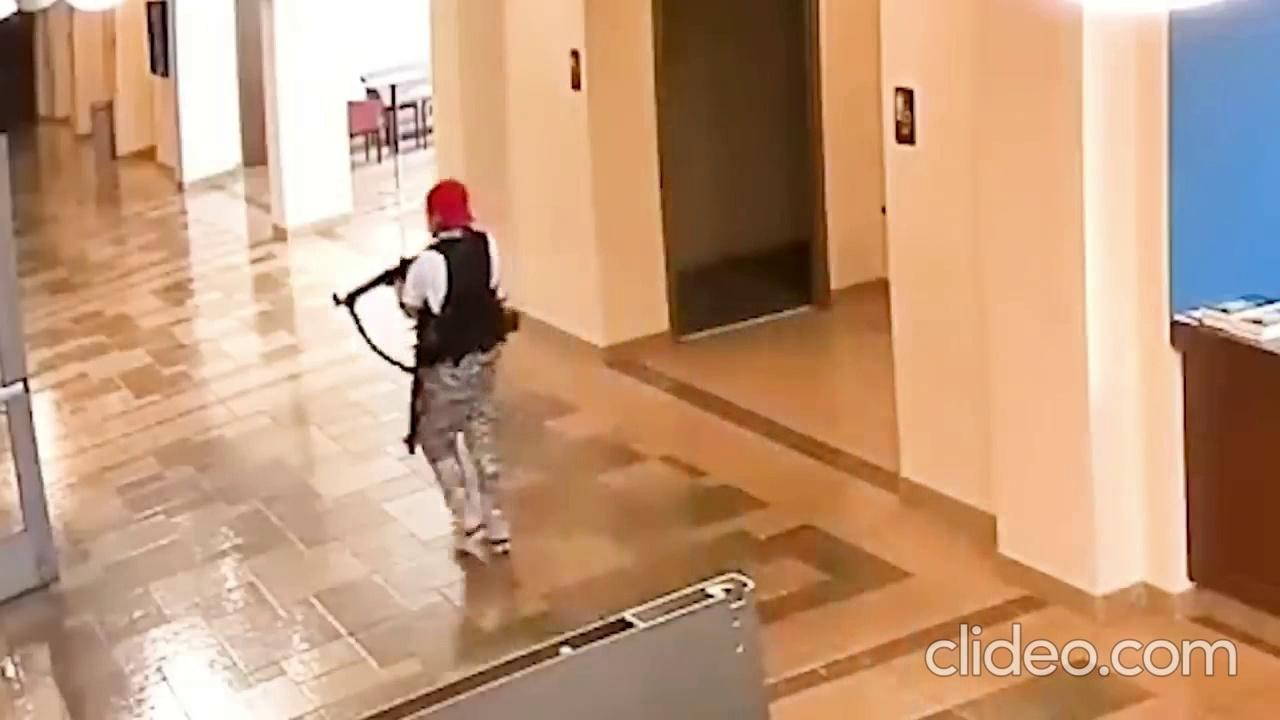person: (387, 176, 519, 562)
rifle: (399, 312, 429, 460)
